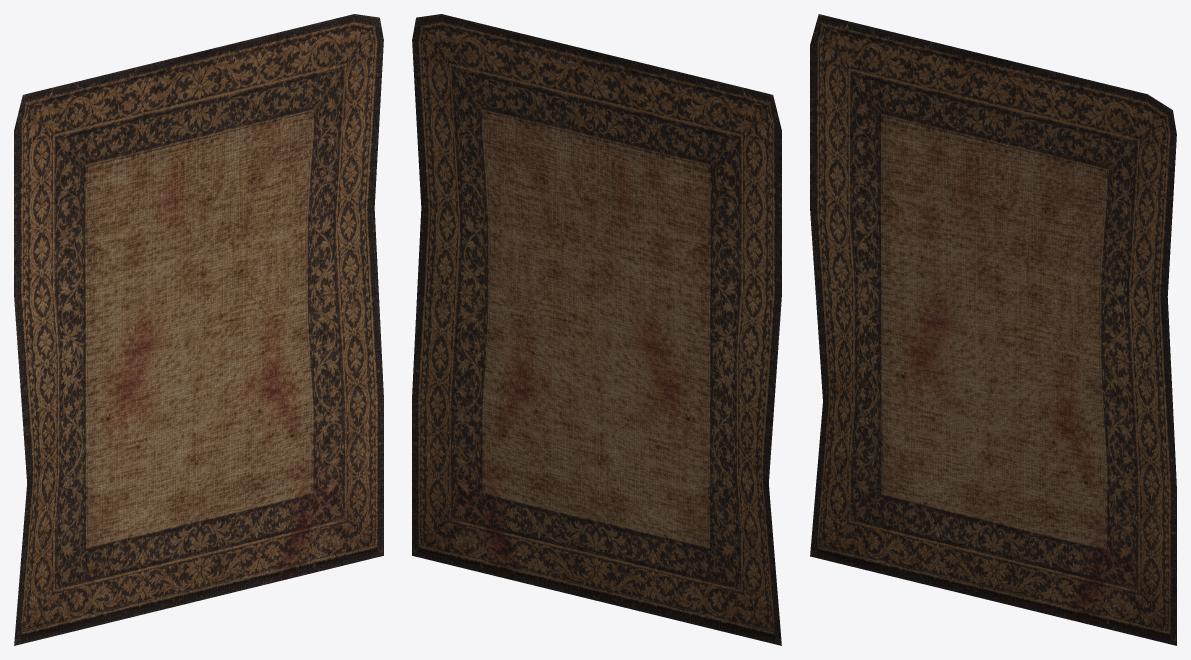
The model's file is mm9_deco_tapestryold01.glb.
The picture shows the model from 3 angles, left to right: view 1: azimuth 30°, elevation 25°; view 2: azimuth 150°, elevation 25°; view 3: azimuth 330°, elevation 25°; orthographic projection.
Parts seen in each view (by area): view 1: Tapestryold01; view 2: Tapestryold01; view 3: Tapestryold01.
Part boxes in pixels (left/top/right/bottom): Tapestryold01: left=14, top=14, right=383, bottom=645; Tapestryold01: left=412, top=14, right=781, bottom=645; Tapestryold01: left=810, top=14, right=1176, bottom=645.
Bounding box in the file's own units: 1.63 × 2.31 × 2.59e-07.
1 material, 1 textured.
